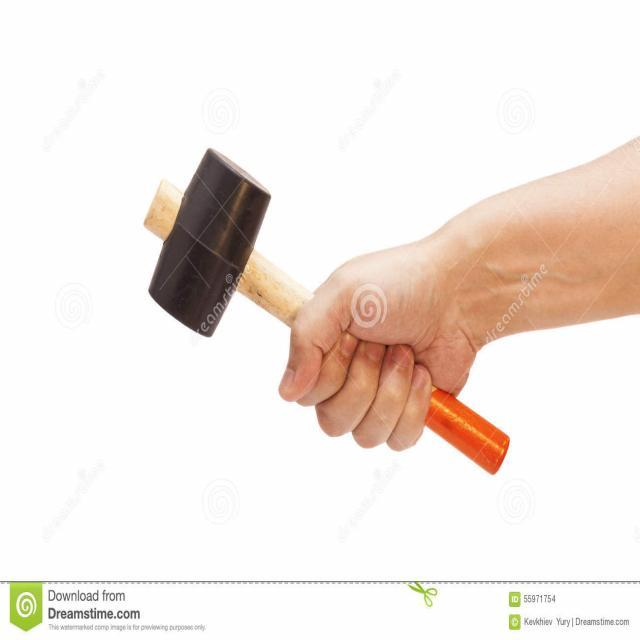hammer: (141, 142, 512, 483)
